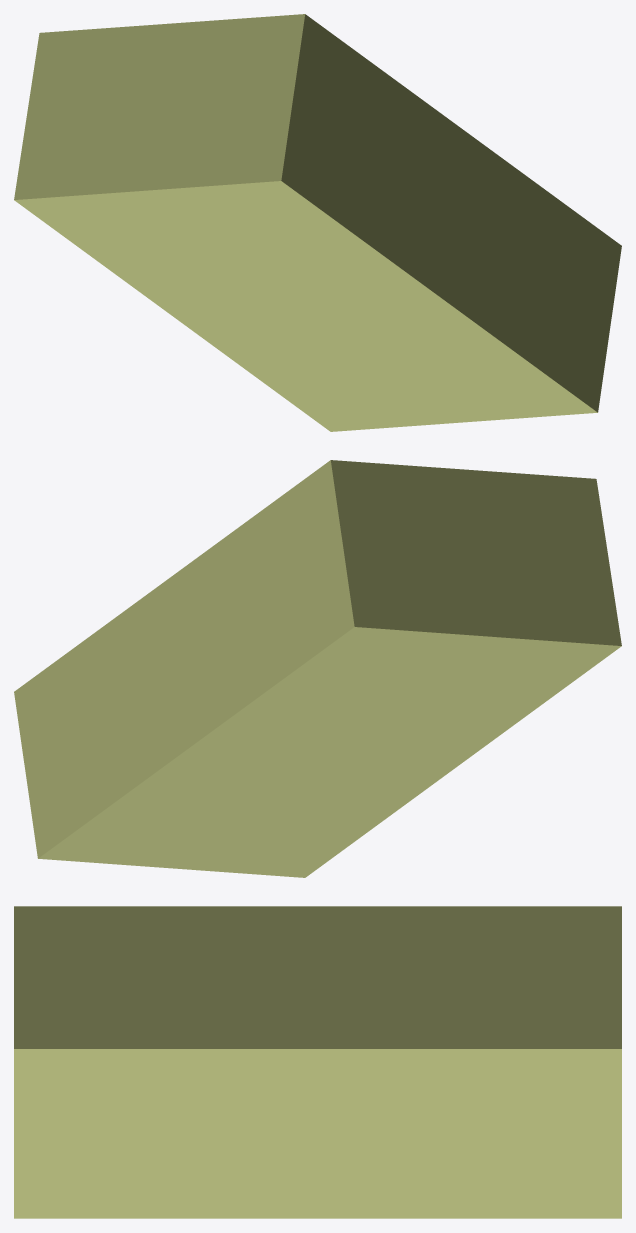
3 renders of one model, top to bottom at view 1: azimuth 30°, elevation 25°; view 2: azimuth 150°, elevation 25°; view 3: azimuth 270°, elevation 25°, orthographic. The views are drawn at different scales.
Parts seen in each view (by area): view 1: 0_1_2_0_3_3_2_0_1_1_2; view 2: 0_1_2_0_3_3_2_0_1_1_2; view 3: 0_1_2_0_3_3_2_0_1_1_2.
Boxes of the visible parts, box(x1,y1,x2,y2) form: 0_1_2_0_3_3_2_0_1_1_2: box(14, 14, 621, 431); 0_1_2_0_3_3_2_0_1_1_2: box(14, 460, 621, 877); 0_1_2_0_3_3_2_0_1_1_2: box(14, 906, 621, 1218).
Size of the model in its own units: 4.78 by 3.25 by 9.
